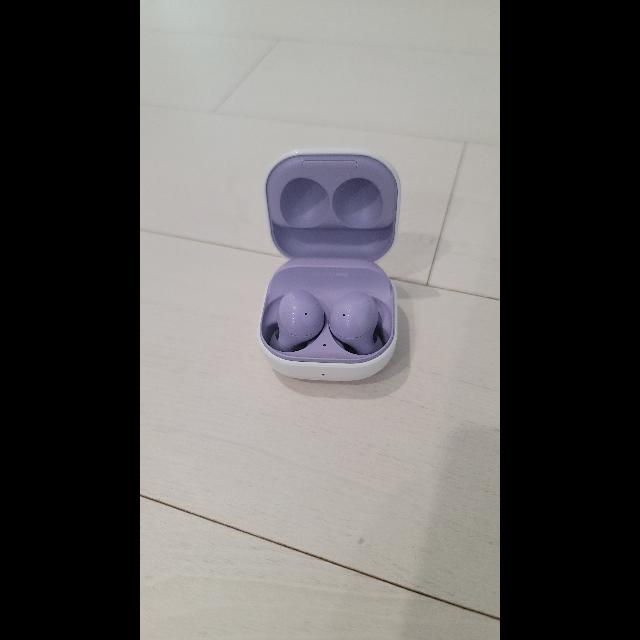Buds2: (259, 149, 401, 379)
